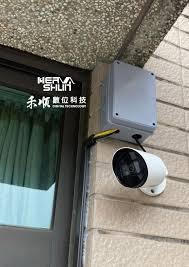Monitor: (96, 133, 189, 216)
